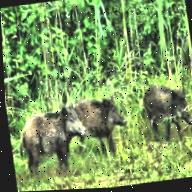boar: (19, 93, 93, 186), (122, 80, 192, 151), (71, 86, 121, 146)
